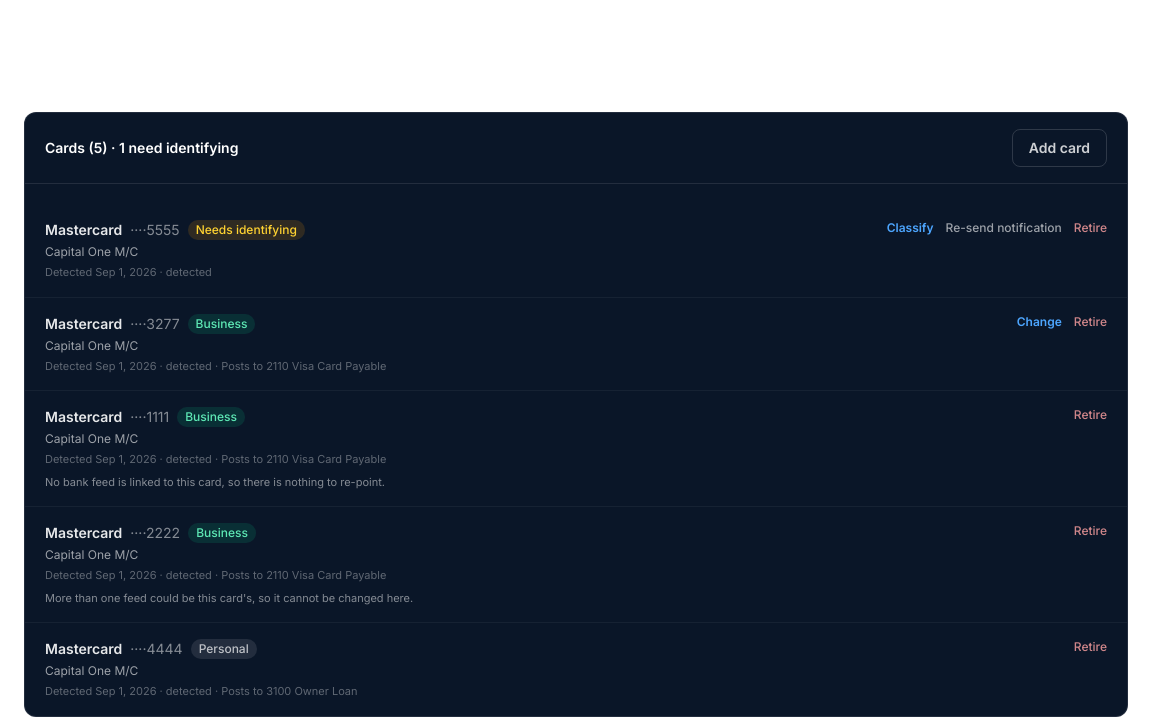
InternalClientCards Change › offers Change only on a business card with a feed, says why a business card has none, and leaves the other cards as they were
The image size is (1152, 720).
Check: the text "No bank feed is linked to this card, so there is nothing to re-point." is shown once, box [45,474,386,490]
Check: the text "More than one feed could be this card's, so it cannot be changed here." is shown once, box [45,590,413,606]
Click the button "Change" at [1039, 322], box [1017,314,1062,330]
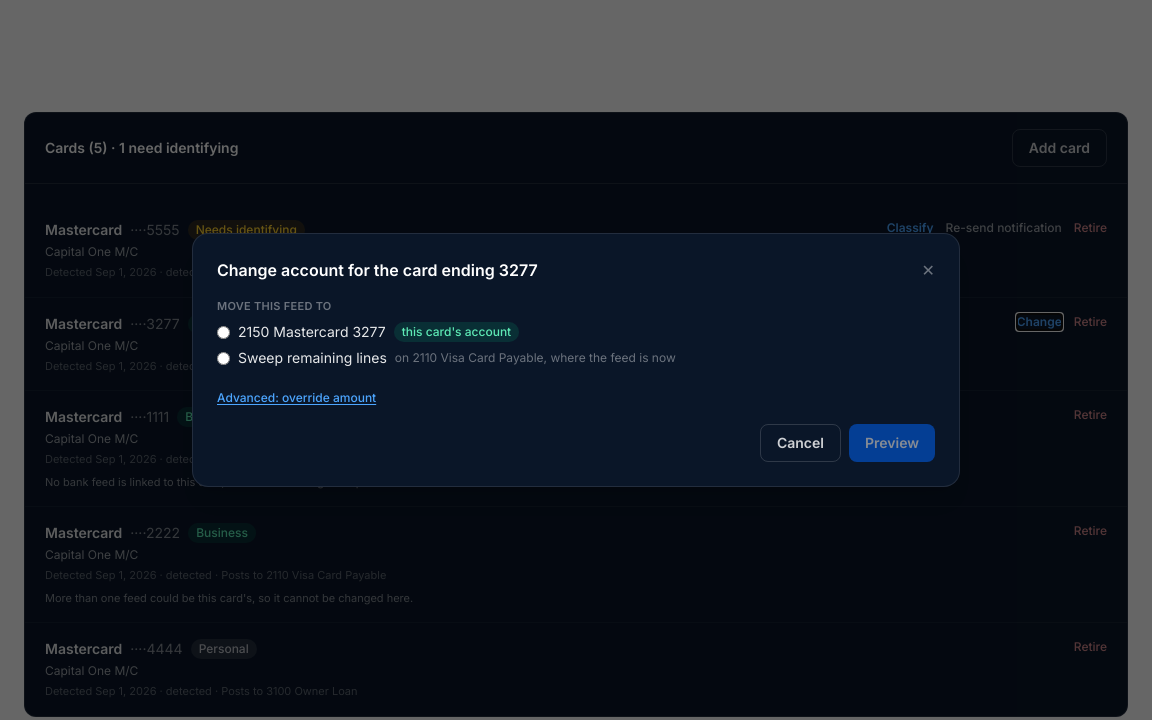
Check: the dialog "Change account for the card ending 3277" is shown, box [192,233,960,487]
Check: the radio button labelled "2150 Mastercard 3277" is shown, box [217,326,230,339]
